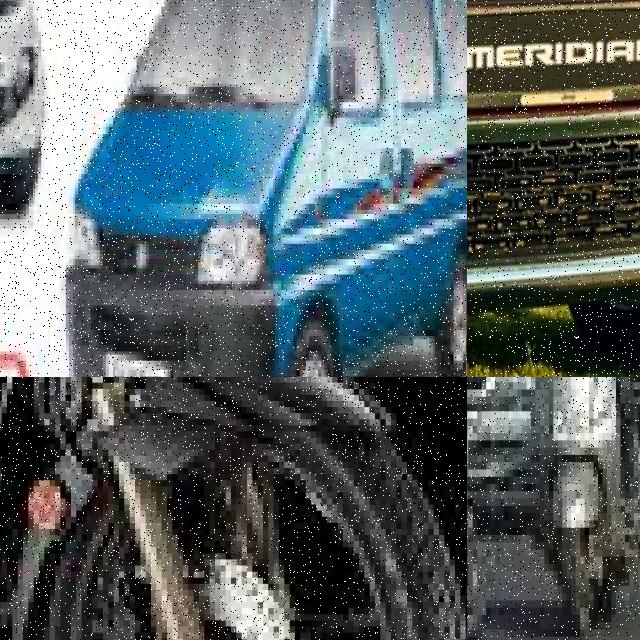bike: (0, 377, 465, 640), (504, 377, 640, 640), (467, 377, 495, 640)
car: (50, 0, 467, 377), (467, 0, 640, 377), (0, 0, 56, 191)
